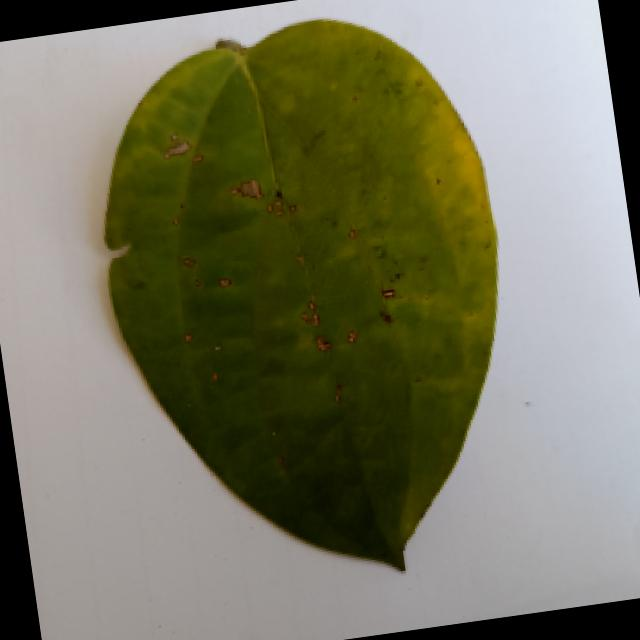slow-decline: (81, 2, 542, 600)
